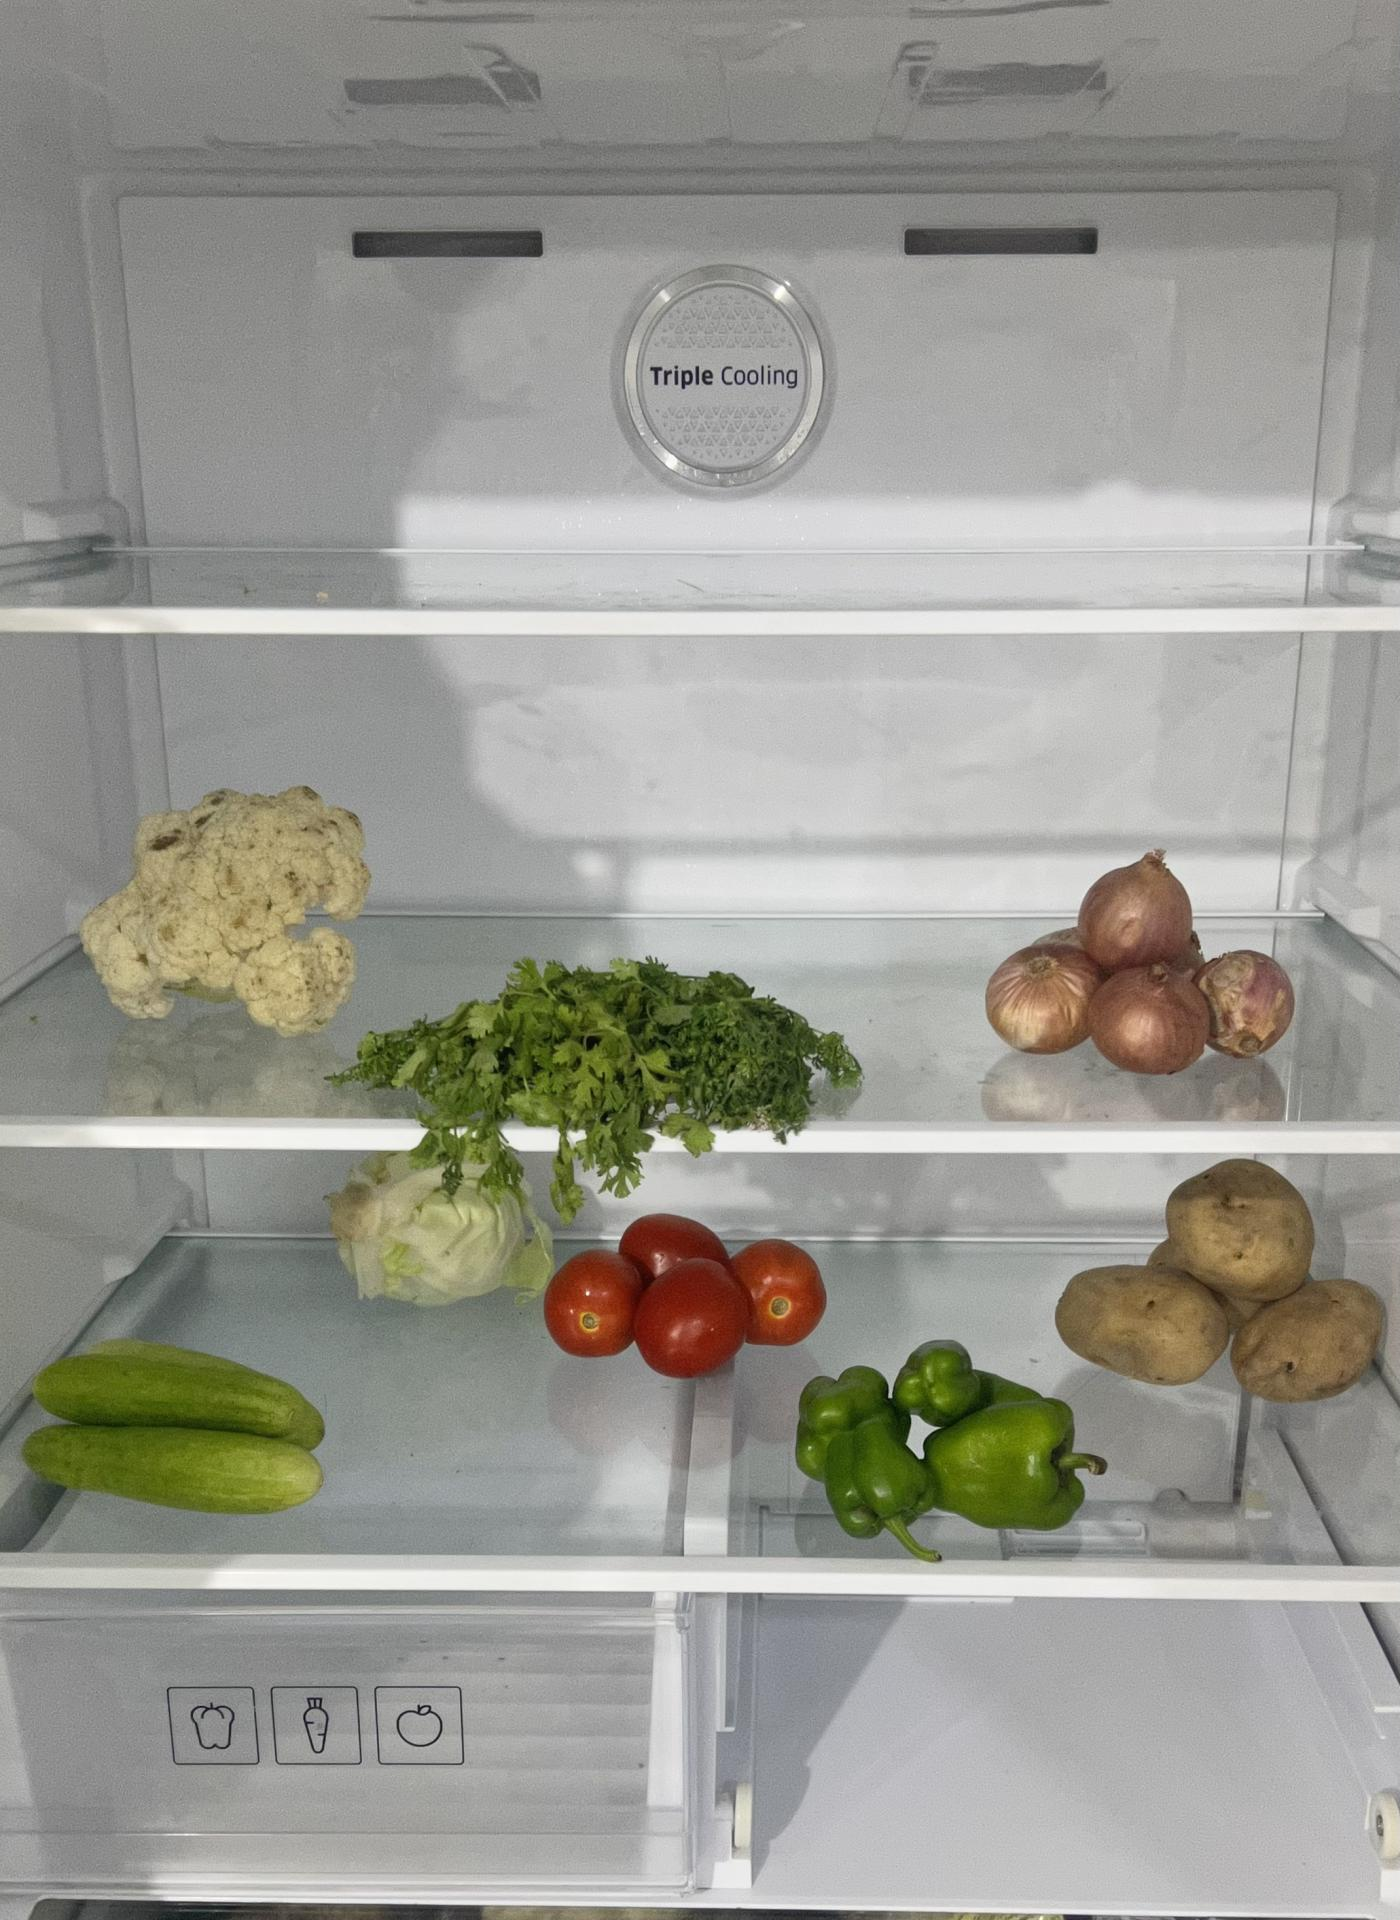cabbage: (349, 1160, 541, 1333)
capsicum: (798, 1351, 1091, 1546)
cauliflower: (78, 781, 365, 1023)
coriander: (355, 954, 854, 1149)
cucumber: (22, 1342, 343, 1504)
onion: (991, 857, 1303, 1078)
potato: (1057, 1151, 1390, 1394)
tomato: (543, 1210, 824, 1374)
